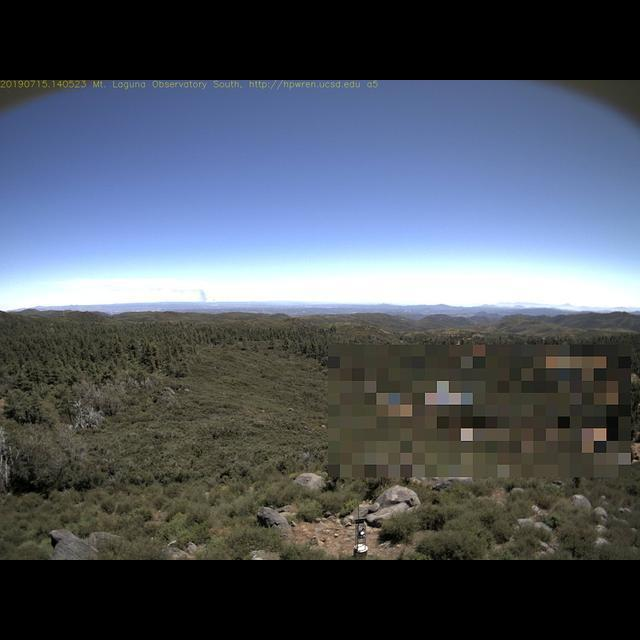Smoke: (181, 285, 215, 302)
